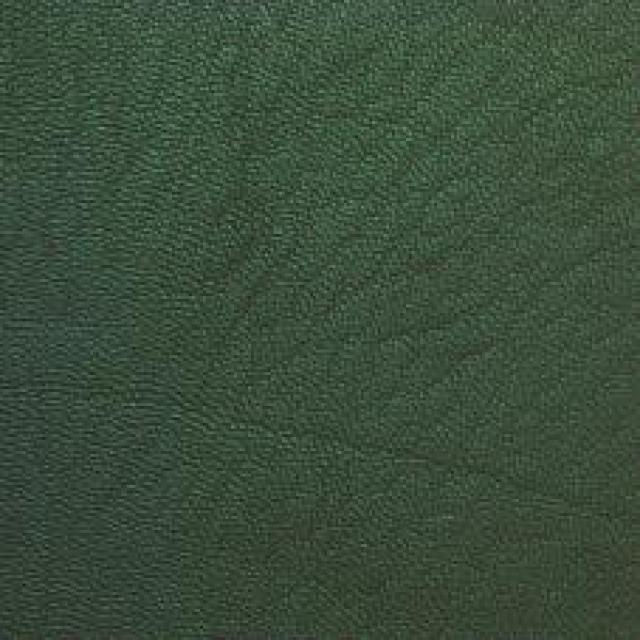Growth Marks: (276, 81, 512, 334), (51, 368, 466, 508)
